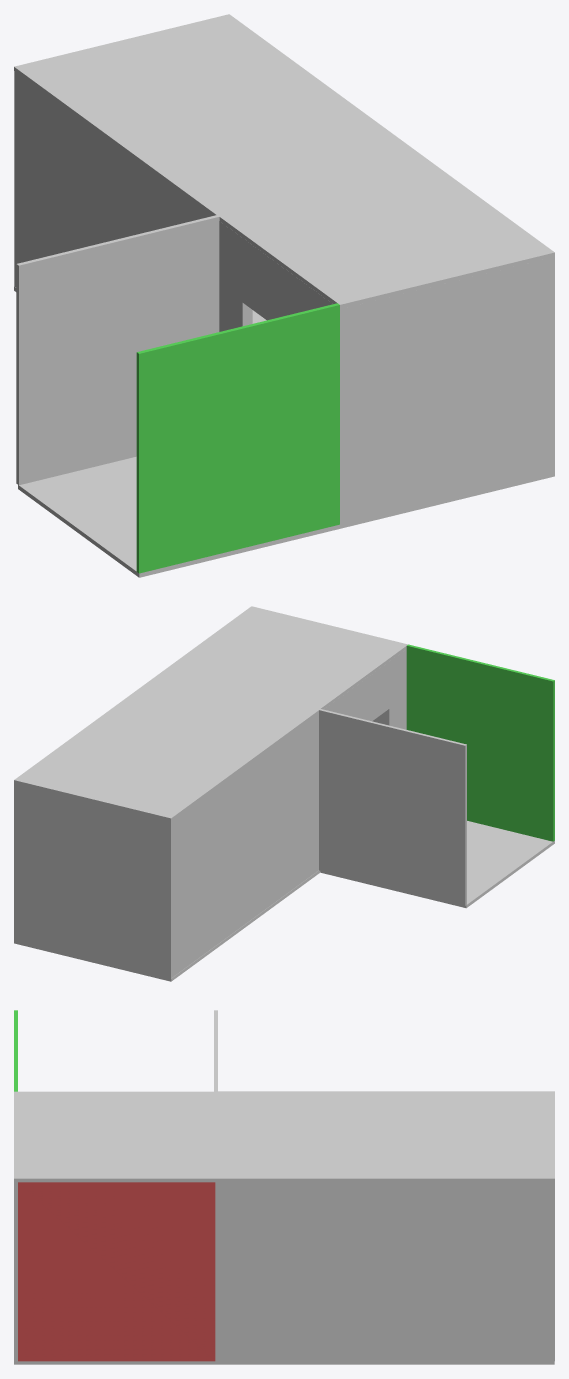
File: room_complete.fbx
3 views of the same model, one above another, from view 1: azimuth 30°, elevation 25°; view 2: azimuth 150°, elevation 25°; view 3: azimuth 270°, elevation 25° (orthographic). The views are drawn at different scales.
Parts seen in each view (by area): view 1: utah_teapot:Mesh1; view 2: utah_teapot:Mesh1; view 3: utah_teapot:Mesh1.
Boxes of the visible parts, x1,y1,x2,y2 form: utah_teapot:Mesh1: (14,14,554,577); utah_teapot:Mesh1: (14,606,554,981); utah_teapot:Mesh1: (14,1010,554,1364).
Size of the model in its own units: 10.1 by 5.2 by 13.7.
